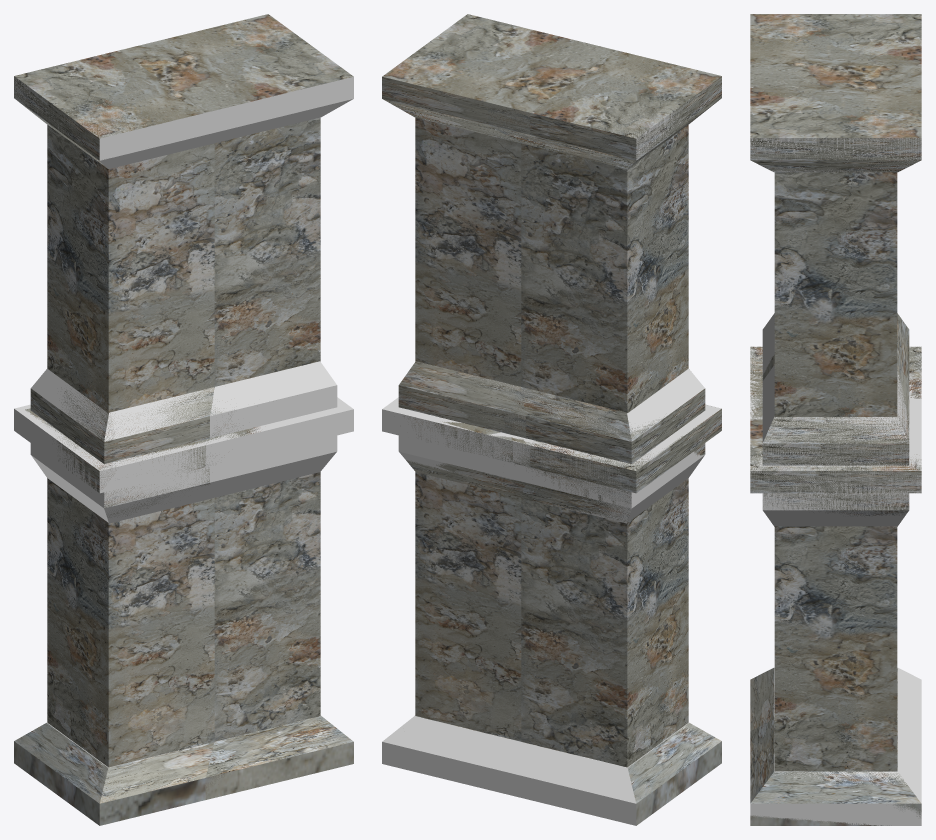
Rendered from Maze1PillarDouble.fbx.
The picture shows the model from 3 angles, left to right: view 1: azimuth 30°, elevation 25°; view 2: azimuth 150°, elevation 25°; view 3: azimuth 270°, elevation 25°; orthographic projection.
Visible parts, largest first — view 1: Cube, Cube.020, Cube.011, Cube.010, Cube.007, Cube.014, Cube.004, Cube.015; view 2: Cube, Cube.020, Cube.001, Cube.019, Cube.011, Cube.004, Cube.016, Cube.015, Cube.017, Cube.018, Cube.006, Cube.003 (+2 smaller); view 3: Cube, Cube.010, Cube.020, Cube.001, Cube.006, Cube.007, Cube.003, Cube.002, Cube.019, Cube.009, Cube.004, Cube.016 (+2 smaller).
Part boxes in pixels (x1,y1,x2,y2): Cube: (14, 14, 353, 818); Cube.020: (14, 56, 224, 825); Cube.011: (14, 368, 241, 523); Cube.010: (203, 361, 353, 497); Cube.007: (205, 76, 353, 142); Cube.014: (14, 76, 247, 168); Cube.004: (215, 397, 353, 464); Cube.015: (88, 477, 192, 516); Cube: (382, 14, 721, 767); Cube.020: (488, 55, 721, 825); Cube.001: (382, 716, 530, 799); Cube.019: (489, 722, 688, 825); Cube.011: (518, 368, 704, 521); Cube.004: (382, 409, 530, 466); Cube.016: (488, 405, 721, 486); Cube.015: (504, 455, 704, 523); Cube.017: (504, 454, 705, 507); Cube.018: (488, 742, 589, 791); Cube.006: (398, 437, 522, 481); Cube.003: (398, 435, 525, 481); Cube: (750, 31, 921, 825); Cube.010: (750, 365, 921, 526); Cube.020: (750, 14, 921, 726); Cube.001: (750, 722, 921, 825); Cube.006: (762, 493, 909, 526); Cube.007: (750, 87, 921, 172); Cube.003: (762, 493, 909, 510); Cube.002: (897, 720, 921, 800); Cube.019: (774, 668, 921, 728); Cube.009: (762, 443, 901, 465); Cube.004: (750, 448, 921, 493); Cube.016: (750, 346, 921, 419).
Size of the model in its own units: 480 by 1240 by 280.
